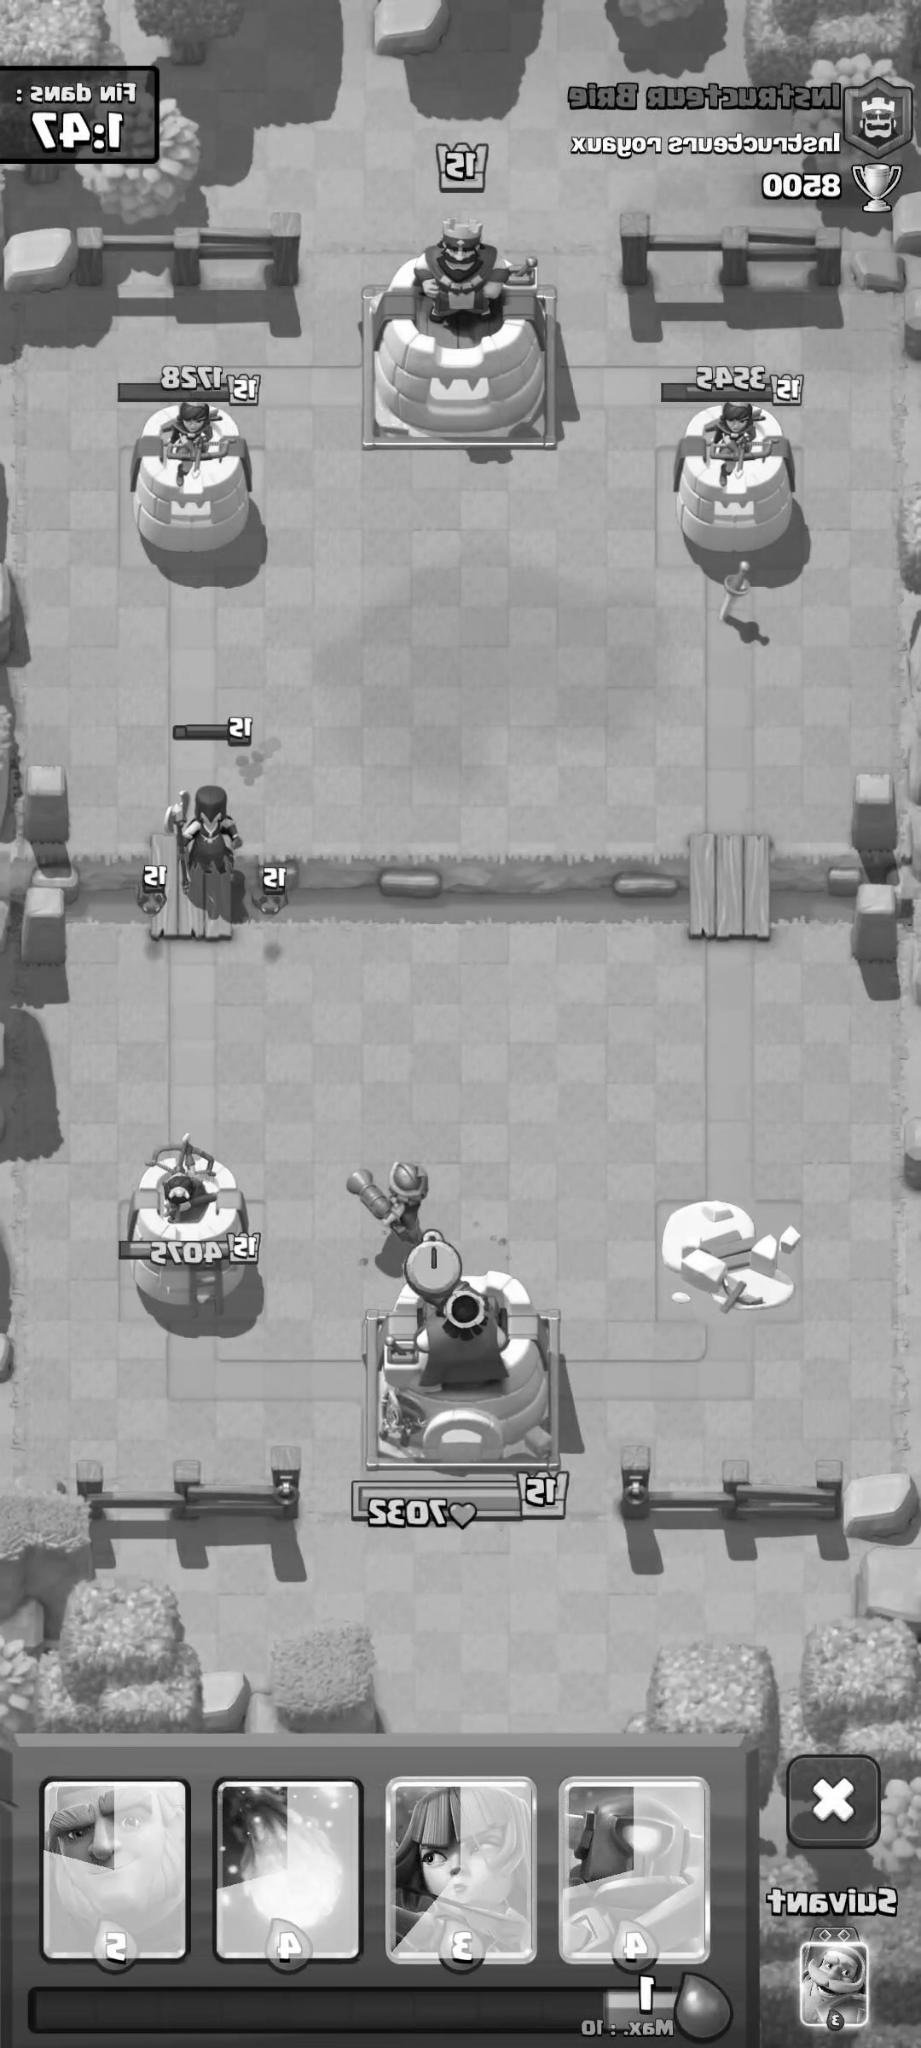bat: (250, 865, 294, 925), (135, 870, 167, 943)
mousquetaire: (341, 1113, 445, 1280)
